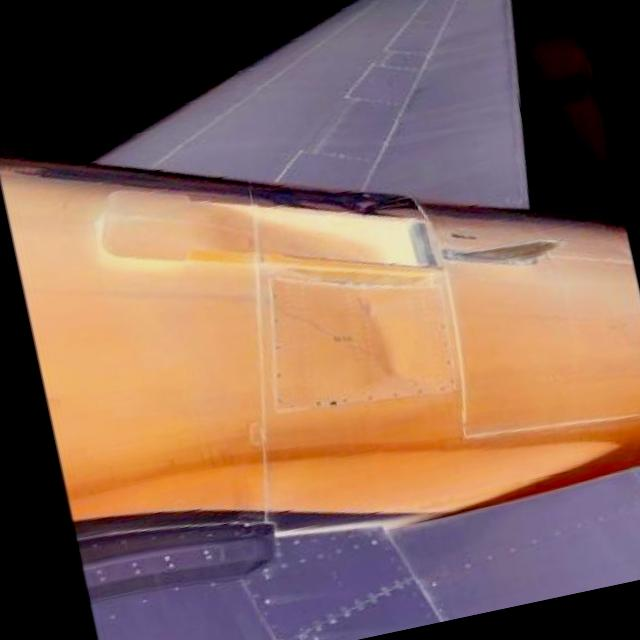dent: (338, 281, 419, 396)
